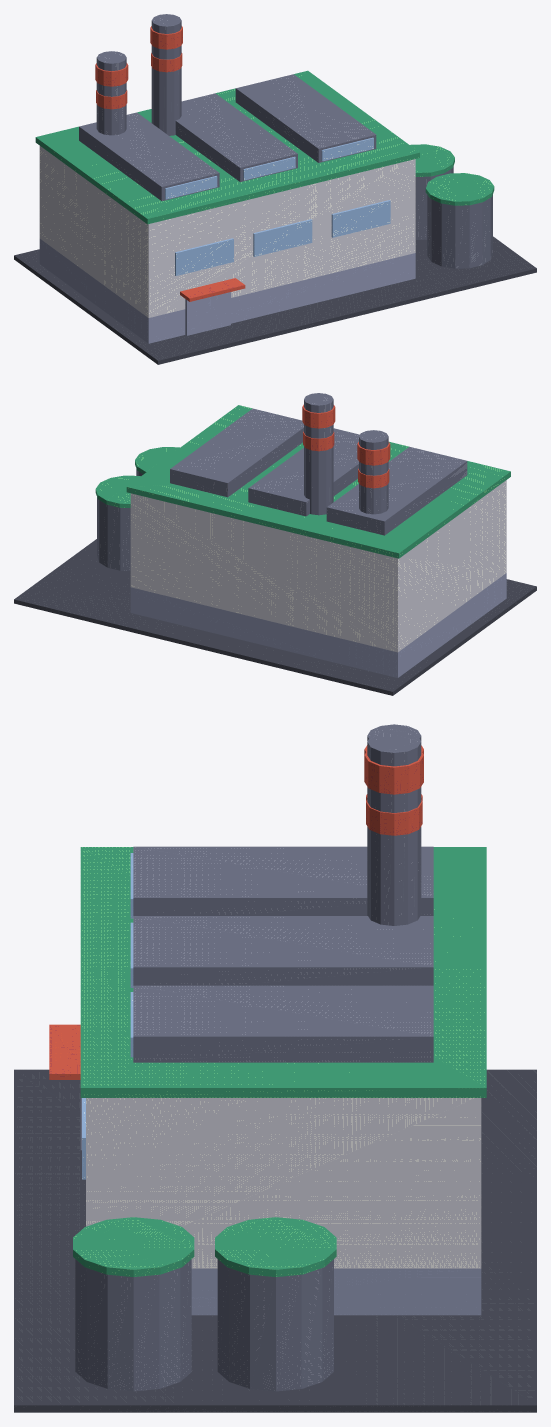
Rendered from ind-3x2-l2.glb.
3 renders of one model, top to bottom at view 1: azimuth 30°, elevation 25°; view 2: azimuth 150°, elevation 25°; view 3: azimuth 270°, elevation 25°, orthographic. The views are drawn at different scales.
Visible parts, largest first — view 1: ind-3x2-l2; view 2: ind-3x2-l2; view 3: ind-3x2-l2.
Boxes of the visible parts, x1,y1,x2,y2 form: ind-3x2-l2: (14, 14, 536, 364); ind-3x2-l2: (14, 393, 536, 695); ind-3x2-l2: (14, 724, 536, 1412).
Bounding box in the file's own units: 5.86 × 3.55 × 3.86.
1 material, 1 textured.
